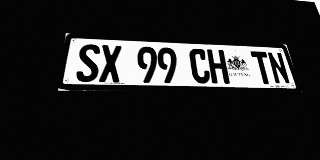9: (157, 47, 179, 83), (137, 46, 158, 83)
C: (189, 48, 211, 83)
H: (207, 49, 230, 84)
N: (266, 52, 291, 84)
S: (75, 44, 100, 82)
T: (250, 51, 275, 84)
X: (99, 45, 121, 82)
